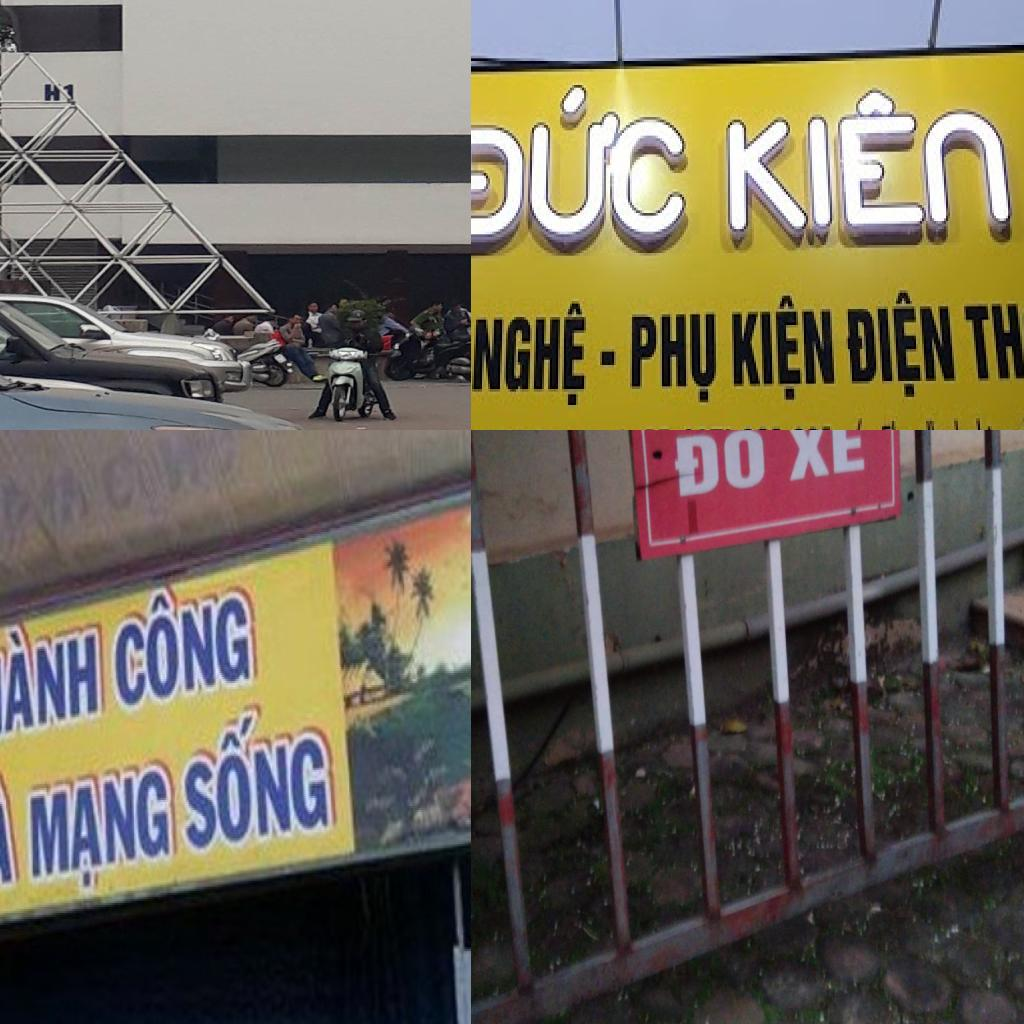text: (720, 82, 1018, 240), (471, 82, 690, 247), (180, 700, 331, 856), (111, 572, 254, 714), (28, 764, 174, 903), (471, 298, 620, 410), (0, 610, 101, 751), (842, 288, 962, 405), (726, 288, 842, 408), (628, 306, 722, 410), (660, 430, 775, 509), (960, 295, 1024, 399), (0, 770, 16, 897), (41, 81, 78, 101), (880, 418, 916, 430), (848, 415, 870, 430)
